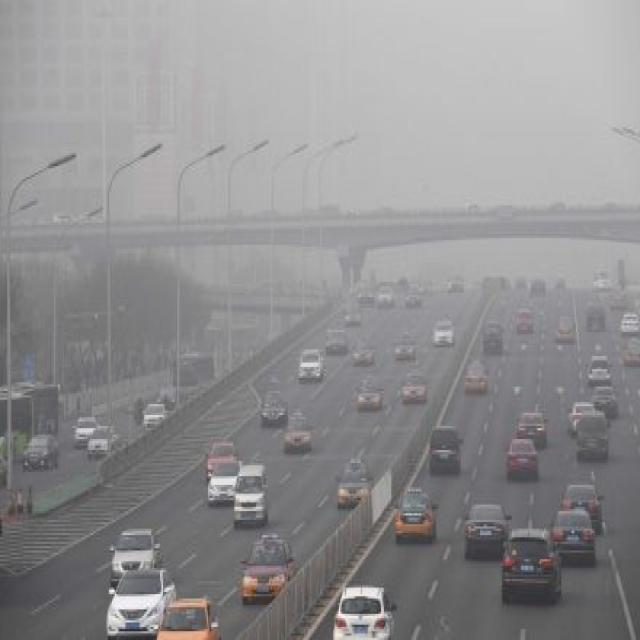car: (106, 566, 173, 636), (501, 531, 562, 603), (241, 542, 294, 600), (151, 594, 223, 636), (108, 526, 157, 586), (334, 588, 392, 638), (462, 502, 508, 560), (547, 509, 595, 563), (231, 465, 268, 524), (394, 490, 435, 540), (428, 424, 461, 474), (573, 411, 607, 458), (336, 457, 369, 502), (503, 437, 537, 478), (22, 434, 58, 470), (515, 410, 548, 448), (210, 457, 237, 502), (284, 411, 312, 454), (353, 376, 384, 410), (204, 437, 231, 472), (591, 382, 618, 417), (259, 389, 285, 424), (297, 347, 323, 380), (464, 358, 487, 393), (585, 350, 609, 382), (71, 413, 96, 443), (89, 426, 115, 452), (142, 402, 166, 428), (401, 374, 425, 399), (322, 328, 346, 352), (404, 284, 422, 312), (433, 319, 452, 345), (355, 280, 374, 306), (394, 332, 410, 360), (516, 308, 532, 334), (377, 282, 392, 306), (556, 319, 572, 341), (623, 312, 637, 334)
